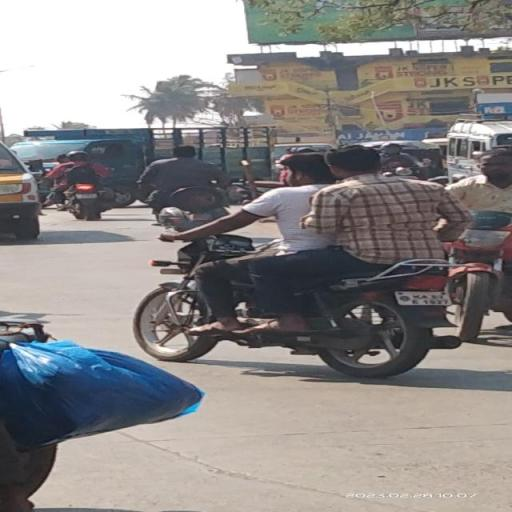bike: (130, 142, 477, 378)
numberplate: (394, 292, 452, 308)
withouthelmet: (330, 146, 380, 176), (284, 152, 326, 186)
